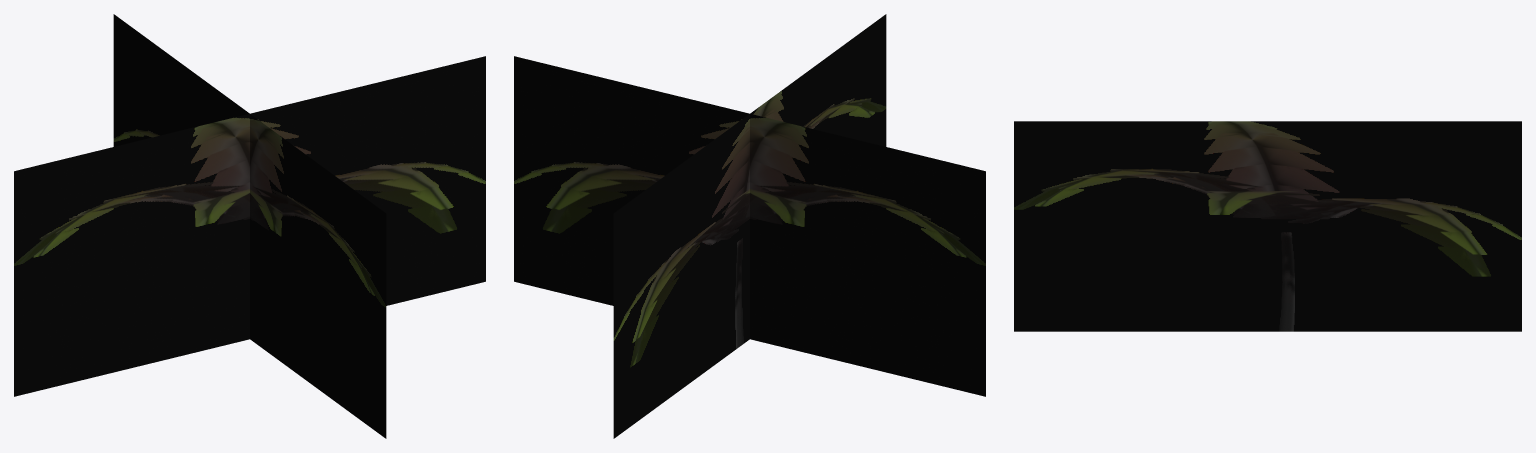
The model's file is palm_sapling_b_card.glb.
3 views of the same model, side by side, from view 1: azimuth 30°, elevation 25°; view 2: azimuth 150°, elevation 25°; view 3: azimuth 270°, elevation 25° (orthographic). The views are drawn at different scales.
Visible parts, largest first — view 1: palm_sapling_b_card; view 2: palm_sapling_b_card; view 3: palm_sapling_b_card.
Boxes of the visible parts, x1,y1,x2,y2 form: palm_sapling_b_card: (14,14,485,438); palm_sapling_b_card: (514,14,985,438); palm_sapling_b_card: (1014,121,1521,331).
Size of the model in its own units: 3.3 by 1.51 by 3.3.
1 material, 1 textured.
